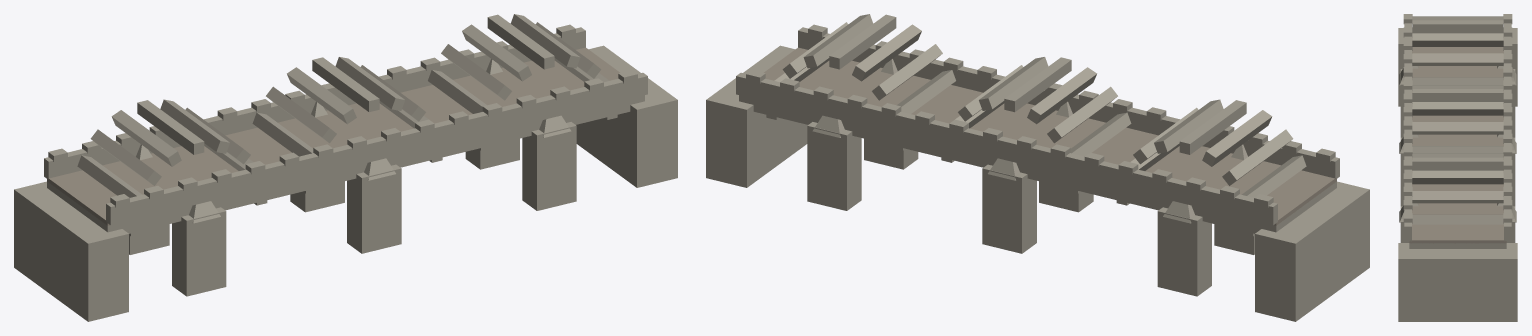
Rendered from bridge-arch.glb.
3 renders of one model, left to right at view 1: azimuth 30°, elevation 25°; view 2: azimuth 150°, elevation 25°; view 3: azimuth 270°, elevation 25°, orthographic. The views are drawn at different scales.
Visible parts, largest first — view 1: bridge-arch; view 2: bridge-arch; view 3: bridge-arch.
Boxes of the visible parts, x1,y1,x2,y2 form: bridge-arch: (14,14,677,321); bridge-arch: (706,14,1369,321); bridge-arch: (1398,14,1517,321).
Bounding box in the file's own units: 50.5 × 11.75 × 11.
